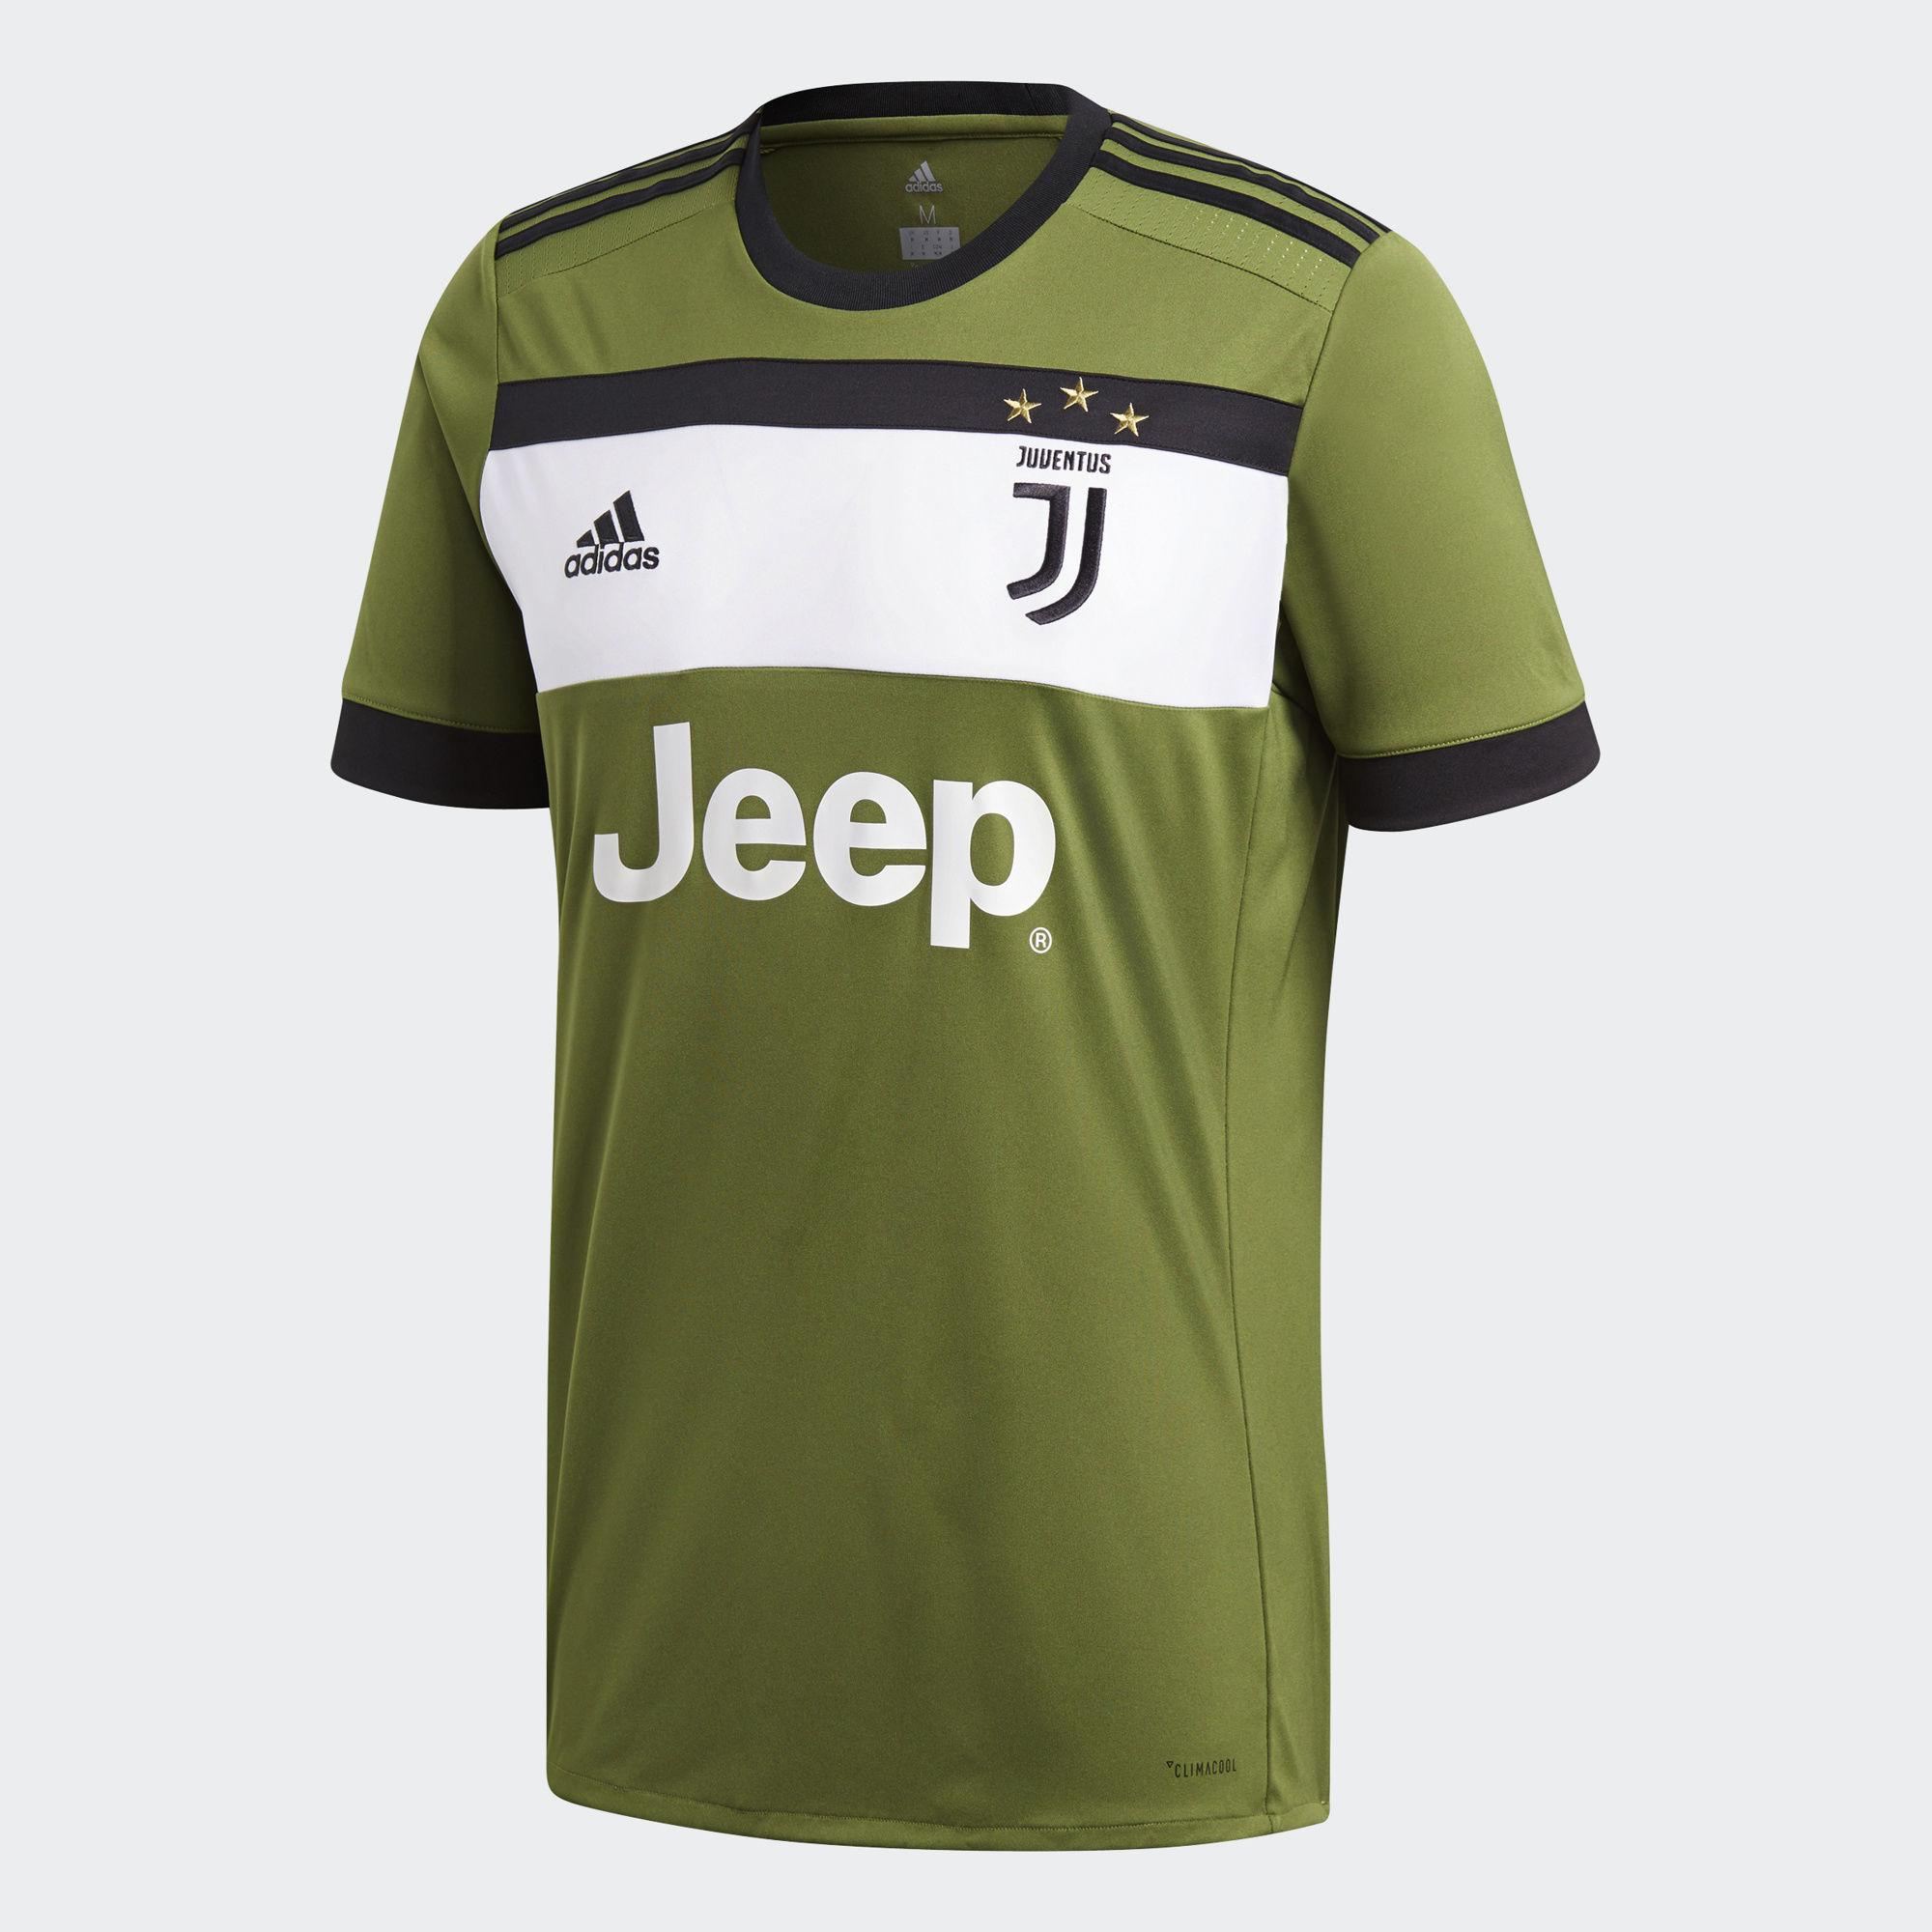teeshirt: (212, 76, 1702, 1872)
